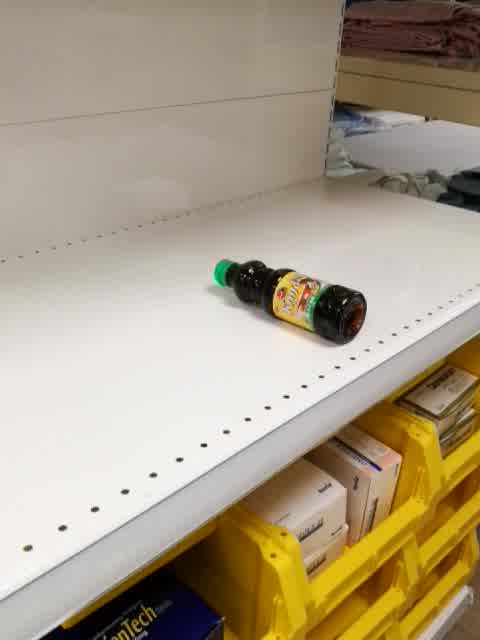cookingoil: (210, 253, 369, 346)
